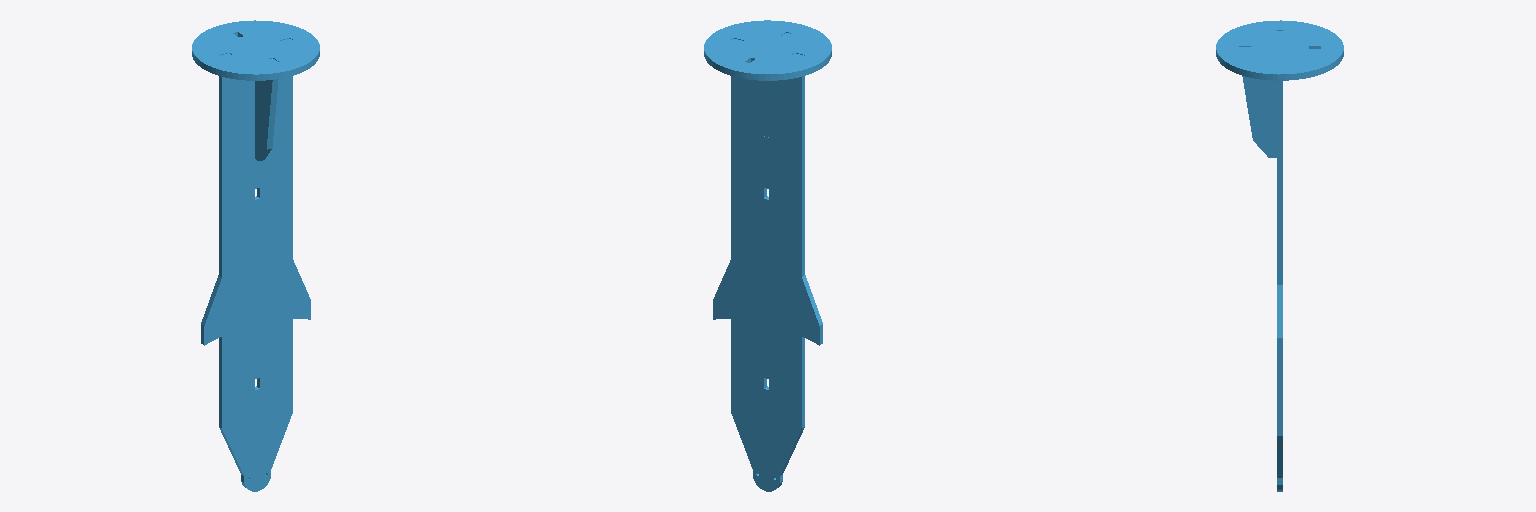
URDF robot description (wood_model):
<?xml version="1.0"?>
<robot name="wood_model">

  <!-- Root link -->
  <link name="base_link"/>

  <!-- Wood link -->
  <link name="wood_link">
    <inertial>
      <origin xyz="X Y Z" rpy="0 0 0"/>
      <mass value="MASS_OF_WOOD"/>
      <inertia ixx="IXX" iyy="IYY" izz="IZZ" ixy="IXY" ixz="IXZ" iyz="IYZ"/>
    </inertial>
    <visual>
      <origin xyz="0 0 -0.06934502337333134" rpy="0 0 0"/>
      <geometry>
        <mesh filename="wood.stl" scale="0.001 0.001 0.001"/>
      </geometry>
    </visual>
    <collision>
      <origin xyz="0 0 -0.06934502337333134" rpy="0 0 0"/>
      <geometry>
        <mesh filename="wood.stl" scale="0.001 0.001 0.001"/>
      </geometry>
    </collision>
  </link>

  <!-- Fixed joint to attach wood_link to base_link -->
  <joint name="wood_fixed" type="fixed">
    <parent link="base_link"/>
    <child link="wood_link"/>
    <origin xyz="0 0 0" rpy="0 0 0"/>
  </joint>

</robot>

--- Facts derived from the render (not from the file) ---
The picture shows the robot from 3 angles, left to right: view 1: azimuth 30°, elevation 25°; view 2: azimuth 150°, elevation 25°; view 3: azimuth 270°, elevation 25°; orthographic projection.
Robot: wood_model — 2 links, 1 joints (1 fixed); root link base_link; default pose: all joints at 0.
Links seen in each view (by area): view 1: wood_link; view 2: wood_link; view 3: wood_link.
Link boxes in pixels (x1,y1,x2,y2): wood_link: [192, 20, 319, 491]; wood_link: [704, 20, 831, 491]; wood_link: [1216, 20, 1343, 491].
Size in the robot's own frame: 0.0957 by 0.0957 by 0.3657 metres.
Meshes: 1 distinct files referenced, 1 mesh visuals loaded (1 binary STL).